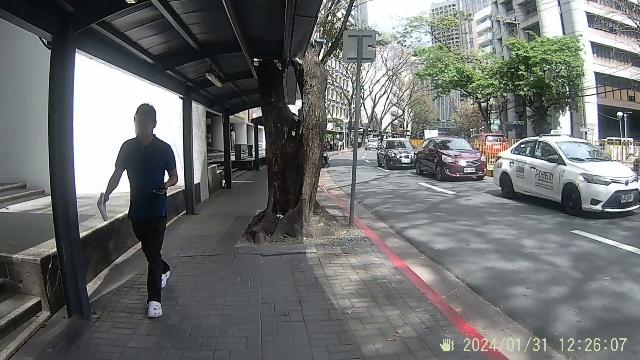car: (414, 133, 490, 183)
street_sign: (338, 21, 380, 229)
tree: (251, 62, 341, 236)
